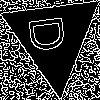D: (28, 12, 75, 54)
